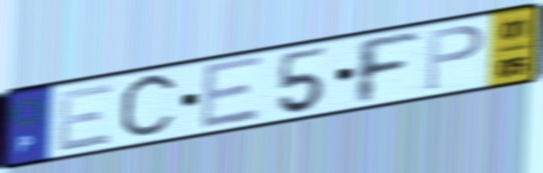5: (275, 44, 329, 118)
C: (115, 69, 182, 145)
E: (198, 53, 266, 134), (54, 79, 117, 154)
F: (352, 29, 424, 107)
P: (423, 22, 487, 93)
